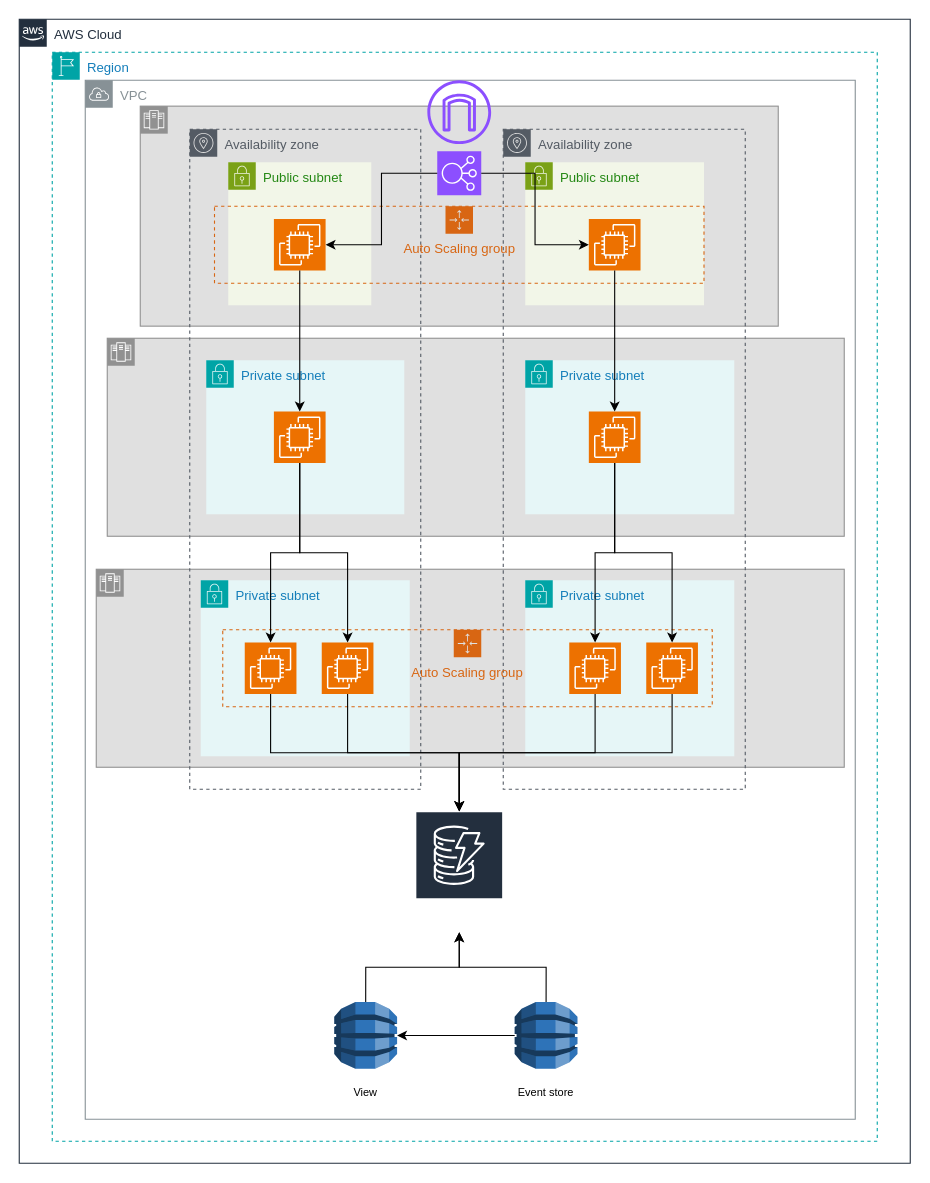
This 930x1183 diagram has some shape labels left out. The shapes that lost their labels are listed below. From the top down, each one's box as (x1, y1, x2, y2) in pixels, then its label:
(139, 105, 778, 326): Web App (UI)
(106, 337, 844, 536): Gateway
(95, 568, 844, 767): Services
(414, 810, 503, 932): Amazon DynamoDB
